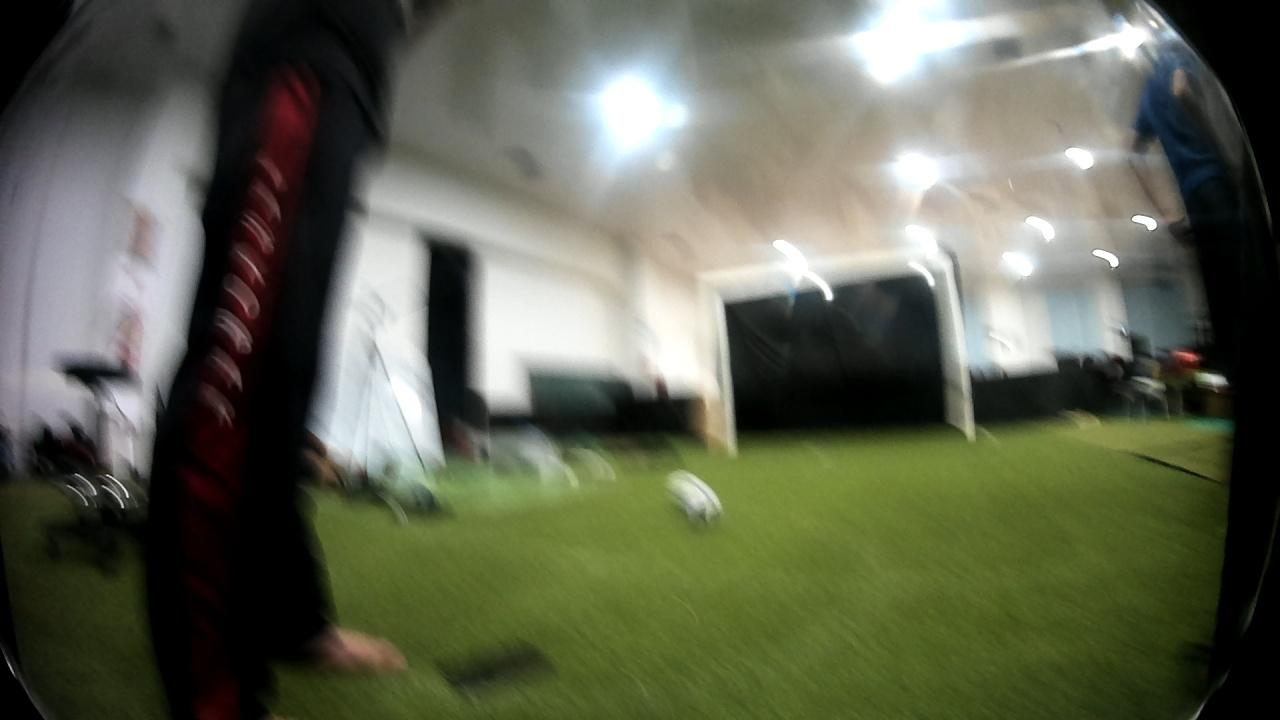ball: (664, 466, 733, 531)
